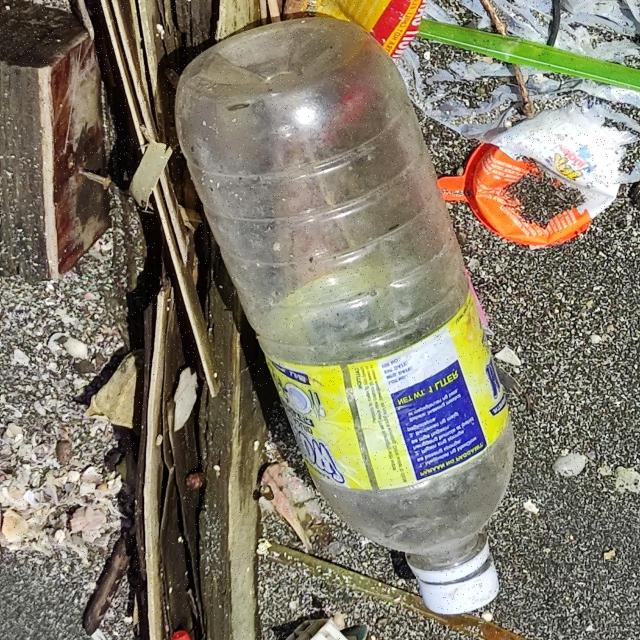plastic_waste: (174, 20, 519, 616)
